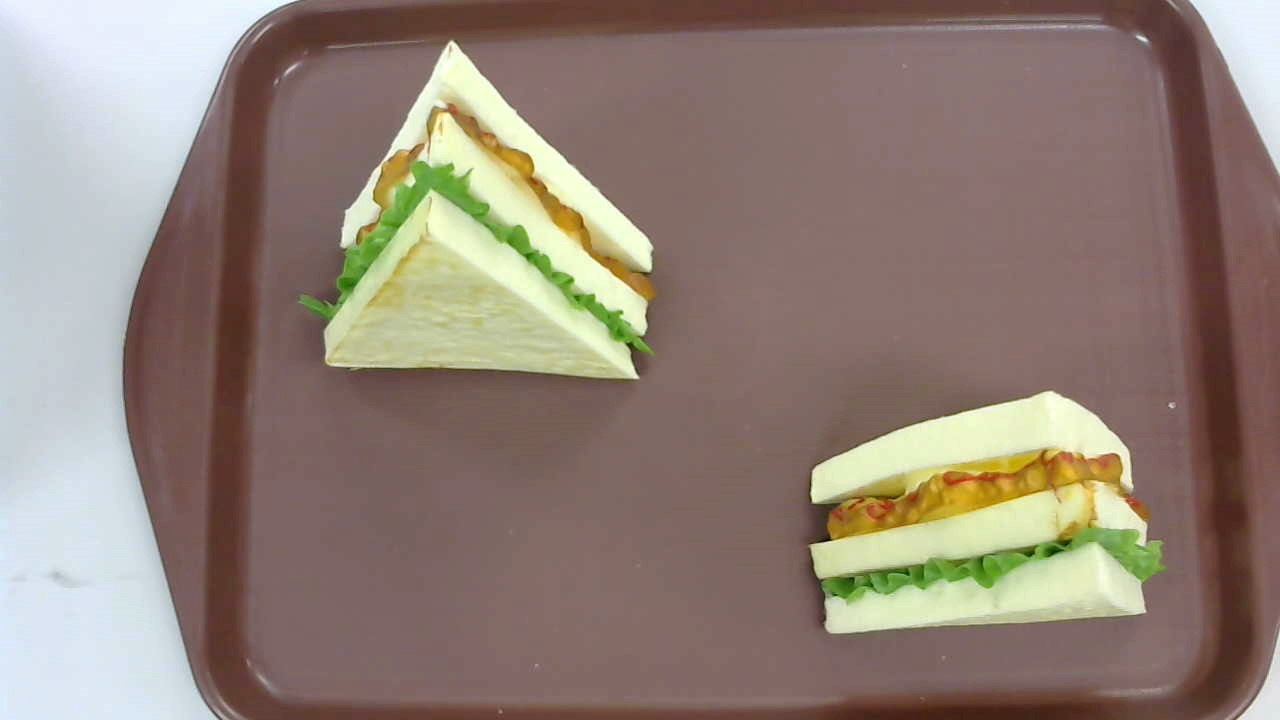sandwich: (296, 36, 656, 381), (807, 388, 1167, 634)
